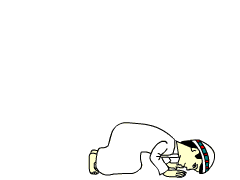sujud: (85, 119, 214, 176)
